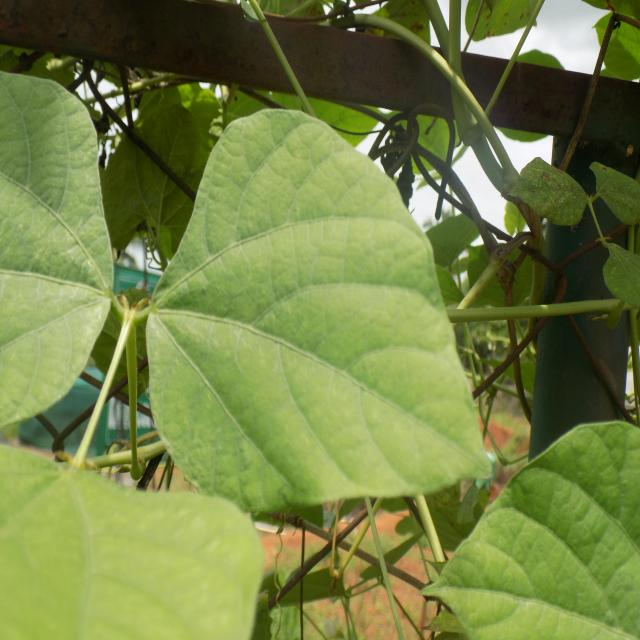Dolicos bean_healthy: (144, 106, 496, 506)
